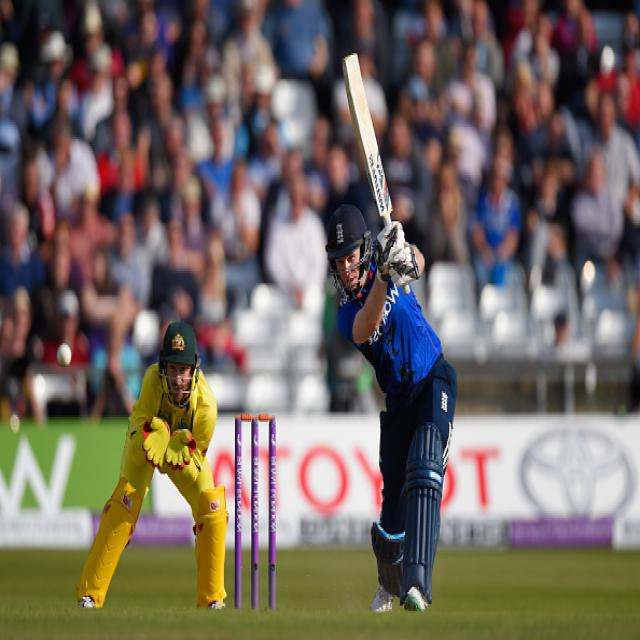stump: (232, 411, 277, 613)
